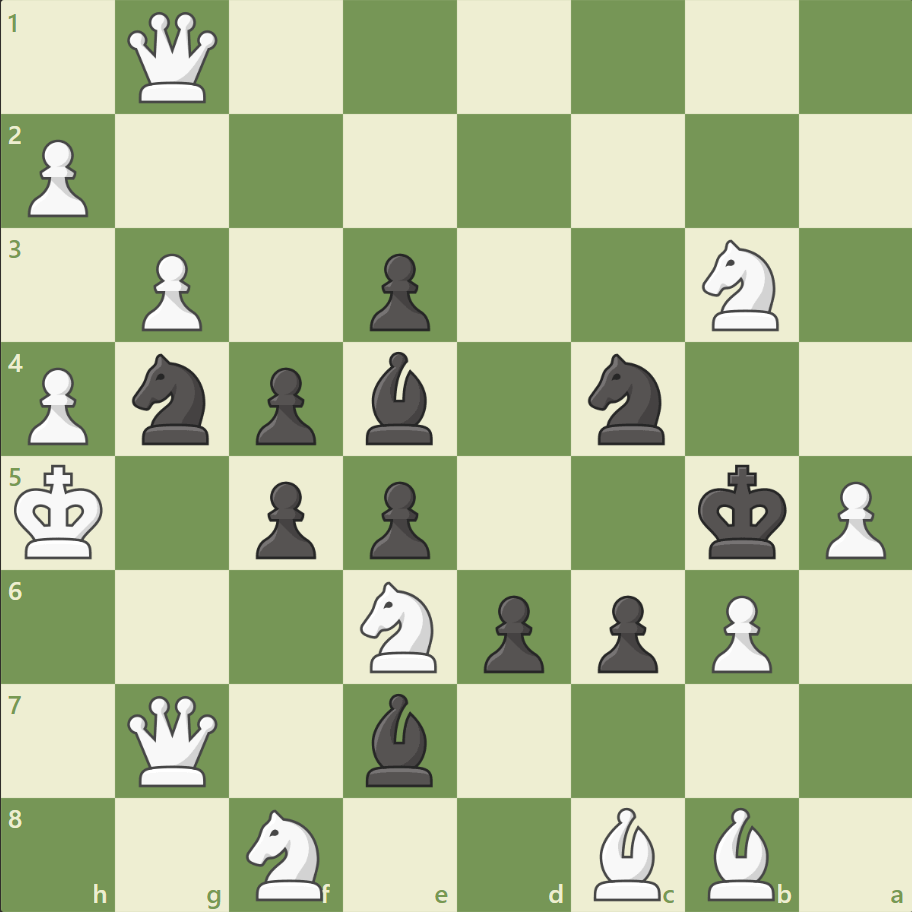B: (698, 801, 782, 904), (585, 801, 669, 904)
K: (11, 458, 111, 566)
N: (351, 575, 449, 677), (692, 234, 789, 337), (238, 802, 335, 904)
P: (701, 586, 776, 677), (20, 359, 95, 450), (133, 246, 208, 337), (20, 132, 95, 223), (815, 473, 889, 564)
Q: (124, 690, 223, 789), (124, 9, 223, 108)
b: (358, 687, 442, 790), (358, 347, 442, 449)
k: (692, 458, 792, 566)
n: (124, 348, 222, 450), (579, 348, 676, 450)
p: (474, 586, 549, 677), (247, 473, 322, 564), (247, 359, 322, 450), (588, 586, 662, 677), (361, 473, 435, 564), (361, 246, 435, 337)
